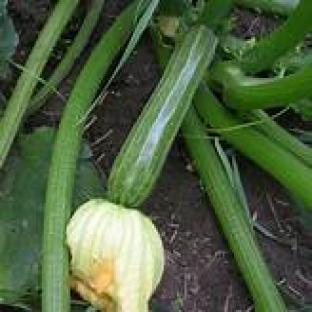Zucchini: (107, 26, 216, 206)
